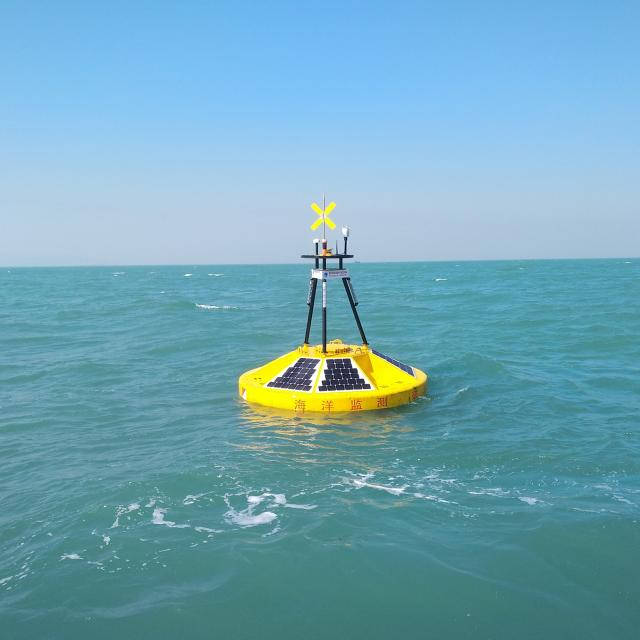buoy: (231, 192, 426, 413)
